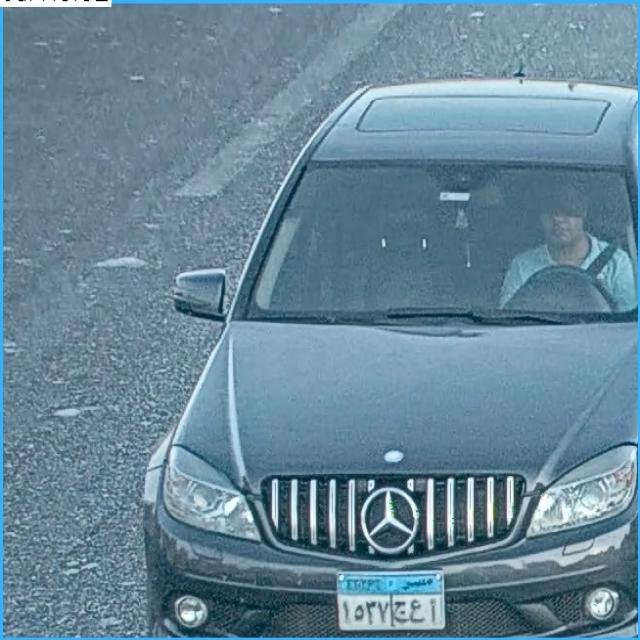windshield: (231, 166, 635, 318)
